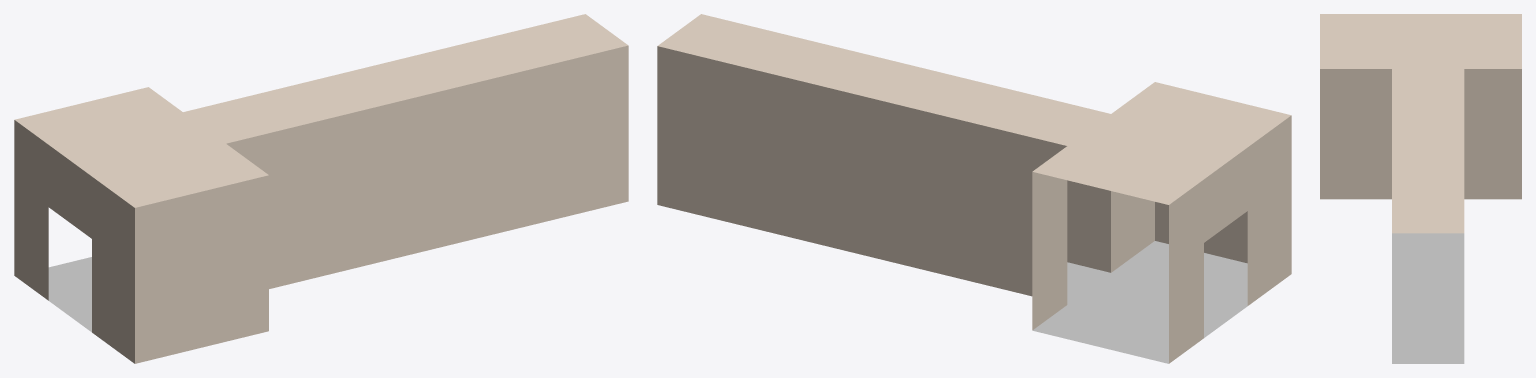
File: L28-Hallway-2.obj
3 renders of one model, left to right at view 1: azimuth 30°, elevation 25°; view 2: azimuth 150°, elevation 25°; view 3: azimuth 270°, elevation 25°, orthographic. The views are drawn at different scales.
Parts seen in each view (by area): view 1: L28-Hallway-2; view 2: L28-Hallway-2; view 3: L28-Hallway-2.
Boxes of the visible parts, box(x1,y1,x2,y2) form: L28-Hallway-2: box(14, 14, 628, 363); L28-Hallway-2: box(657, 14, 1291, 363); L28-Hallway-2: box(1320, 14, 1521, 363).
Size of the model in its own units: 18 by 5 by 7.
